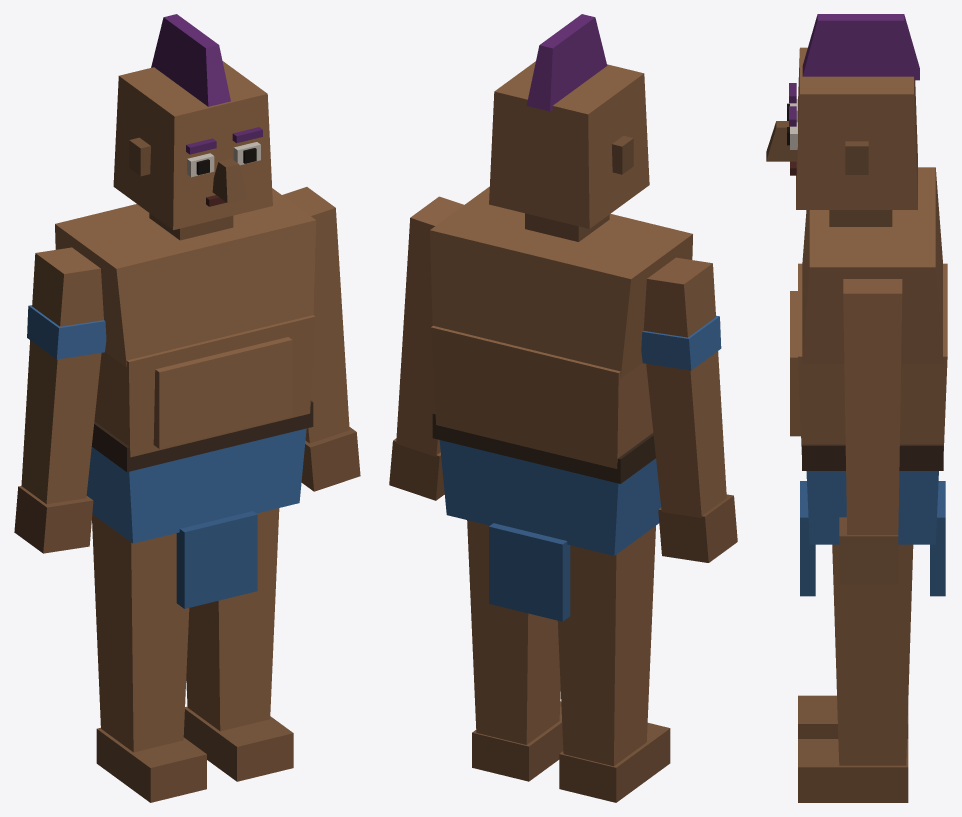
Rendered from fighter_B5.glb.
The picture shows the model from 3 angles, left to right: view 1: azimuth 30°, elevation 25°; view 2: azimuth 150°, elevation 25°; view 3: azimuth 270°, elevation 25°; orthographic projection. The views are drawn at different scales.
Visible parts, largest first — view 1: torso, head, hips, leg_R, arm_R, leg_L, arm_L; view 2: torso, head, hips, leg_R, arm_R, leg_L, arm_L; view 3: torso, head, leg_L, arm_L, hips, leg_R.
Part boxes in pixels (<box>): torso: <box>55,188,316,457</box>; head: <box>113,14,272,240</box>; hips: <box>86,400,313,608</box>; leg_R: <box>92,514,206,802</box>; arm_R: <box>14,247,106,553</box>; leg_L: <box>183,508,293,781</box>; arm_L: <box>282,187,360,491</box>; torso: <box>430,187,692,468</box>; head: <box>489,14,649,241</box>; hips: <box>432,412,660,621</box>; leg_R: <box>557,526,670,802</box>; arm_R: <box>641,257,737,562</box>; leg_L: <box>467,520,563,781</box>; arm_L: <box>389,196,463,500</box>; torso: <box>790,167,947,454</box>; head: <box>766,14,919,226</box>; leg_L: <box>798,544,913,802</box>; arm_L: <box>839,279,902,584</box>; hips: <box>800,444,945,596</box>; leg_R: <box>798,695,908,738</box>.
Size of the model in its own units: 0.9528 by 2.1 by 0.46.
